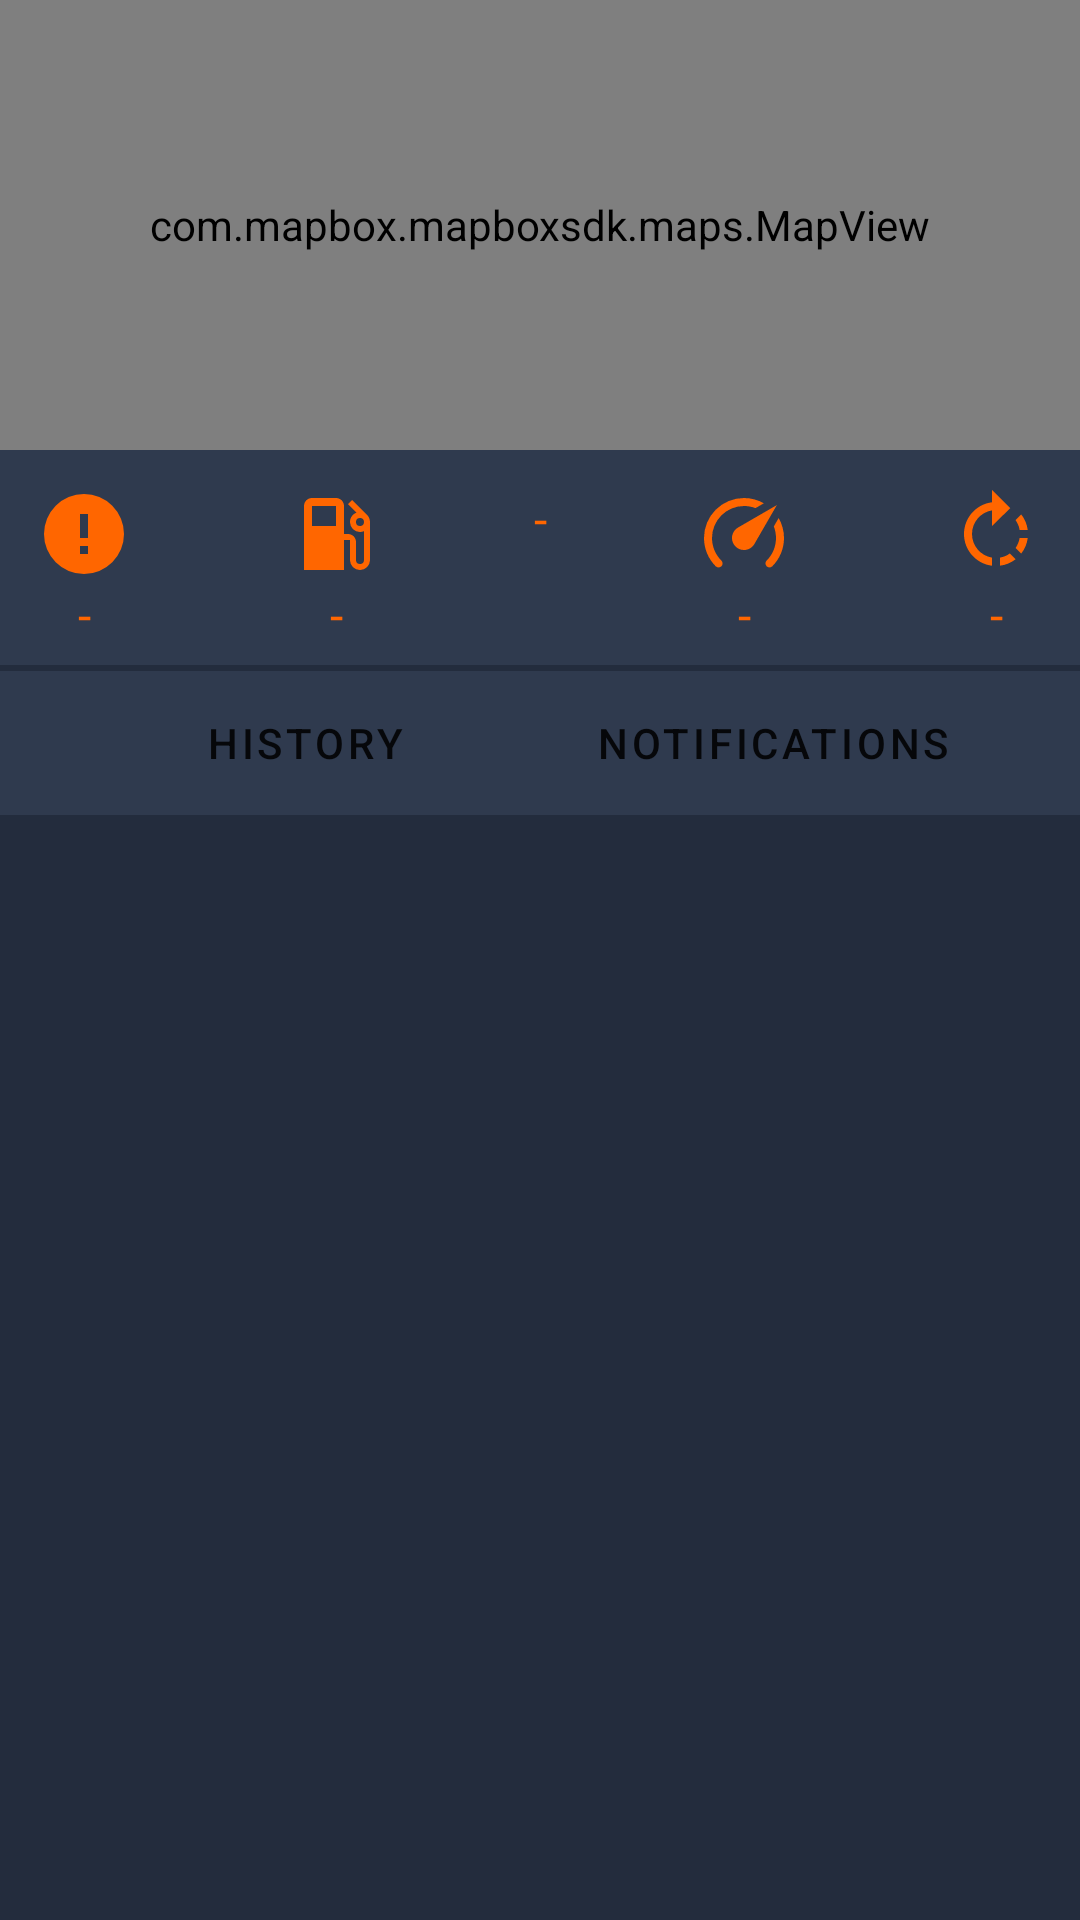

Screen size 1080x1920. Icon name, then its box in pixels as (x1, y1, x2, y2):
alert: (44, 494, 124, 574)
fuel: (304, 498, 370, 570)
rotate: (964, 490, 1028, 566)
speedometer: (704, 498, 784, 568)
